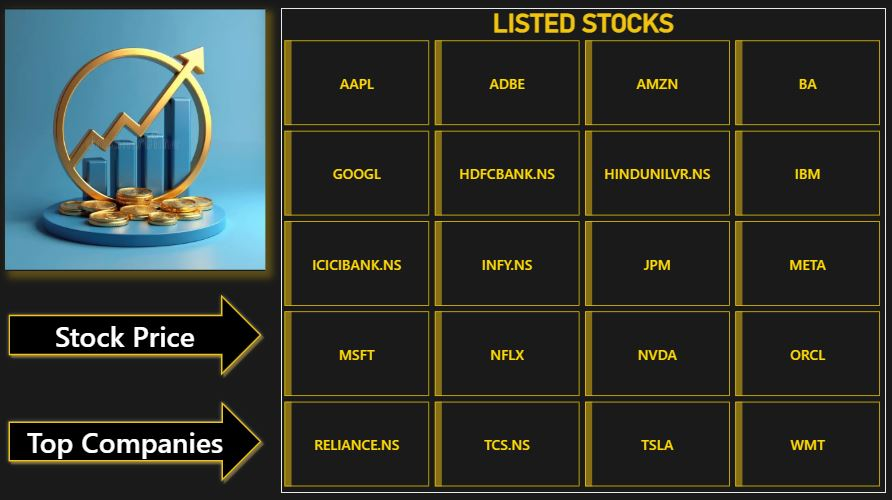

The page's visual inventory and layout, read from the dashboard file:
{"tool":"powerbi","page":{"name":"Home","canvas":[1280,720],"ordinal":0},"visuals":[{"type":"shape","title":"Stock Price","box":[14.2,413.9,368.5,124.7],"z":0},{"type":"image","box":[14.2,12.8,368.5,372.8],"z":1000},{"type":"shape","title":"Stock Price","box":[14.2,565.5,368.5,123.3],"z":2000},{"type":"advancedSlicerVisual","title":"LISTED STOCKS","fields":{"Values":["stocks_data.Ticker"]},"box":[405.4,12.8,857.5,687.4],"z":3000},{"type":"shape","box":[423.3,64.4,187.4,108.7],"z":4000},{"type":"shape","box":[423.3,573.5,187.4,108.7],"z":5000},{"type":"shape","box":[423.3,446.2,187.4,108.7],"z":6000},{"type":"shape","box":[423.3,317.5,187.4,108.7],"z":7000},{"type":"shape","box":[423.3,190.2,187.4,108.7],"z":8000},{"type":"shape","box":[640.7,64.4,187.4,108.7],"z":9000},{"type":"shape","box":[845.2,64.4,187.4,108.7],"z":10000},{"type":"shape","box":[1062.6,64.4,187.4,108.7],"z":11000},{"type":"shape","box":[640.7,573.5,187.4,108.7],"z":12000},{"type":"shape","box":[640.7,446.2,187.4,108.7],"z":13000},{"type":"shape","box":[630.7,317.5,187.4,108.7],"z":14000},{"type":"shape","box":[630.7,190.2,187.4,108.7],"z":15000},{"type":"shape","box":[845.2,193.1,187.4,108.7],"z":16000},{"type":"shape","box":[845.2,573.5,187.4,108.7],"z":17000},{"type":"shape","box":[1062.6,446.2,187.4,108.7],"z":18000},{"type":"shape","box":[845.2,446.2,187.4,108.7],"z":19000},{"type":"shape","box":[1062.6,573.5,187.4,108.7],"z":20000},{"type":"shape","box":[1061.2,190.2,187.4,108.7],"z":21000}]}

Visuals, with their boxes in screenshot pixels (x1, y1, x2, y2), scaled from the page's 1280x720 canvas onto the 892x500 screenshot:
"Stock Price" shape: bbox=(10, 287, 267, 374)
image: bbox=(10, 9, 267, 268)
"Stock Price" shape: bbox=(10, 393, 267, 478)
"LISTED STOCKS" advancedSlicerVisual: bbox=(283, 9, 880, 486)
shape: bbox=(295, 45, 426, 120)
shape: bbox=(295, 398, 426, 474)
shape: bbox=(295, 310, 426, 385)
shape: bbox=(295, 220, 426, 296)
shape: bbox=(295, 132, 426, 208)
shape: bbox=(446, 45, 577, 120)
shape: bbox=(589, 45, 720, 120)
shape: bbox=(740, 45, 871, 120)
shape: bbox=(446, 398, 577, 474)
shape: bbox=(446, 310, 577, 385)
shape: bbox=(440, 220, 570, 296)
shape: bbox=(440, 132, 570, 208)
shape: bbox=(589, 134, 720, 210)
shape: bbox=(589, 398, 720, 474)
shape: bbox=(740, 310, 871, 385)
shape: bbox=(589, 310, 720, 385)
shape: bbox=(740, 398, 871, 474)
shape: bbox=(740, 132, 870, 208)
